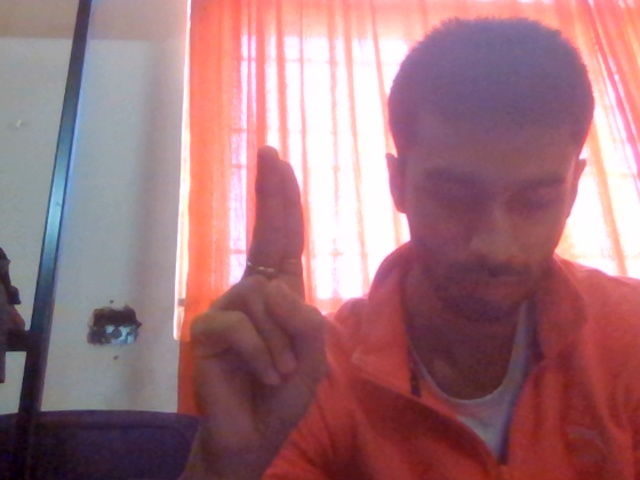U: (147, 118, 362, 480)
